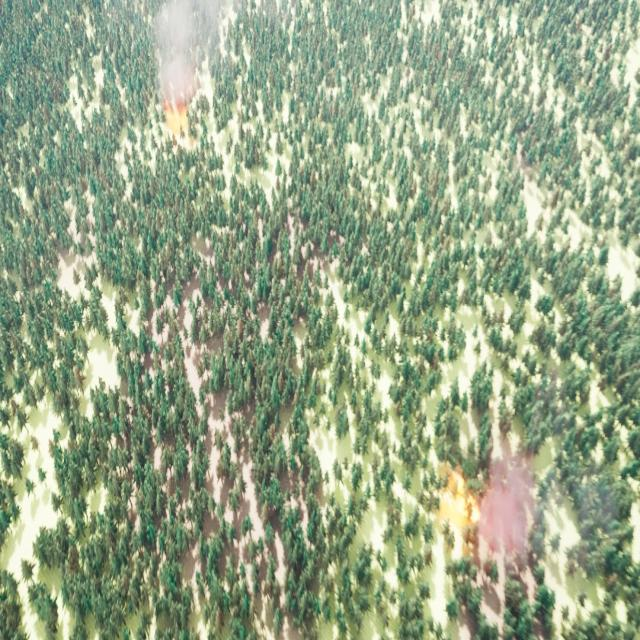fire: (442, 463, 482, 525), (159, 103, 196, 132)
smoke: (472, 446, 538, 588), (154, 0, 225, 91)
